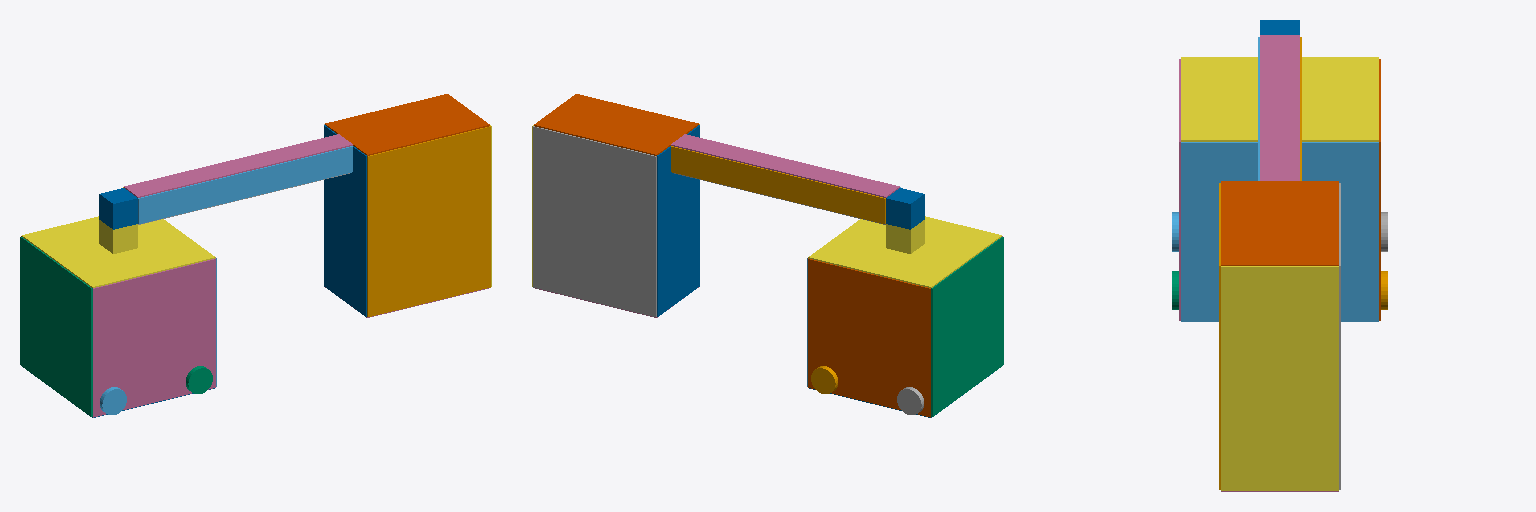
--- Render facts (derived) ---
The picture shows the robot from 3 angles, left to right: view 1: azimuth 30°, elevation 25°; view 2: azimuth 150°, elevation 25°; view 3: azimuth 270°, elevation 25°; orthographic projection.
Model robot with 34 links and 33 joints (2 continuous, 31 fixed), rooted at body, posed all joints at 0.
Links seen in each view (by area): view 1: hand_sensor_0_right, body_sensor_0_right, body_sensor_0_stop, body_sensor_0_top, hand_sensor_0_stop, arm_sensor_0_right, hand_sensor_0_top, arm_sensor_0_top, joint_2, joint_1, back_right_wheel, from_right_wheel; view 2: hand_sensor_0_left, body_sensor_0_left, body_sensor_0_stop, body_sensor_0_top, hand_sensor_0_stop, arm_sensor_0_left, hand_sensor_0_top, arm_sensor_0_top, joint_2, joint_1, back_left_wheel, from_left_wheel; view 3: hand_sensor_0_start, body_sensor_0_start, body_sensor_0_top, hand_sensor_0_top, arm_sensor_0_top, hand_sensor_0_left, hand_sensor_0_right, joint_2.
Link boxes in pixels (x1,y1,x2,y2): hand_sensor_0_right: [367, 126, 490, 316]; body_sensor_0_right: [93, 258, 215, 417]; body_sensor_0_stop: [20, 237, 92, 416]; body_sensor_0_top: [22, 216, 215, 287]; hand_sensor_0_stop: [324, 125, 366, 316]; arm_sensor_0_right: [138, 146, 352, 223]; hand_sensor_0_top: [325, 94, 489, 155]; arm_sensor_0_top: [124, 134, 352, 197]; joint_2: [99, 188, 137, 229]; joint_1: [99, 220, 137, 253]; back_right_wheel: [100, 387, 126, 414]; from_right_wheel: [186, 366, 212, 393]; hand_sensor_0_left: [533, 126, 656, 316]; body_sensor_0_left: [808, 258, 930, 417]; body_sensor_0_stop: [931, 237, 1003, 416]; body_sensor_0_top: [808, 216, 1001, 287]; hand_sensor_0_stop: [657, 125, 699, 316]; arm_sensor_0_left: [671, 146, 885, 223]; hand_sensor_0_top: [534, 94, 698, 155]; arm_sensor_0_top: [671, 134, 899, 197]; joint_2: [886, 188, 924, 229]; joint_1: [886, 220, 924, 253]; back_left_wheel: [897, 387, 923, 414]; from_left_wheel: [811, 366, 837, 393]; hand_sensor_0_start: [1221, 266, 1338, 490]; body_sensor_0_start: [1181, 142, 1378, 321]; body_sensor_0_top: [1181, 57, 1378, 141]; hand_sensor_0_top: [1221, 181, 1338, 265]; arm_sensor_0_top: [1260, 35, 1299, 180]; hand_sensor_0_left: [1339, 183, 1340, 489]; hand_sensor_0_right: [1219, 183, 1220, 489]; joint_2: [1260, 20, 1299, 34].
Size in the robot's own frame: 3.37 by 1.1 by 1.42 metres.
Geometry: primitives only (box / cylinder / sphere), no mesh files.

URDF robot description (robot):
<?xml version="1.0"?>
    <robot name="robot">


    <!-- body -->
    <link name="body">
        <inertial>
            <origin xyz="0 0 0" rpy="0 0 0"/>
            <mass value="100"/>
            <inertia ixx="15" ixy="0" ixz="0" iyy="15" iyz="0" izz="15"/>
        </inertial>
        <visual>
            <origin xyz="0 0 0" rpy="0 0 0"/>
            <geometry>
                <box size="1 1 1"/>
            </geometry>
        </visual>
        <collision>
            <origin xyz="0 0 0" rpy="0 0 0"/>
            <geometry>
                <box size="1 1 1"/>
            </geometry>
        </collision>
    </link>


    <!-- body_sensor_0_start -->
    <link name="body_sensor_0_start">
        <inertial>
            <origin xyz="0 0 0" rpy="0 0 0"/>
            <mass value="0"/>
            <inertia ixx="0" ixy="0" ixz="0" iyy="0" iyz="0" izz="0"/>
        </inertial>
        <visual>
            <origin xyz="0 0 0" rpy="0 0 0"/>
            <geometry>
                <box size="0.02 1 1"/>
            </geometry>
        </visual>
        <collision>
            <origin xyz="0 0 0" rpy="0 0 0"/>
            <geometry>
                <box size="0.02 1 1"/>
            </geometry>
        </collision>
    </link>
    <!-- Joint: body, body_sensor_0_start -->
    <joint name="body_body_sensor_0_start_joint" type="fixed">
        <parent link="body"/>
        <child link="body_sensor_0_start"/>
        <origin xyz="0.5 0 0"
                rpy="0 0 0"/>
        <axis xyz="0 0 1"/>
        
    </joint>


    <!-- body_sensor_0_stop -->
    <link name="body_sensor_0_stop">
        <inertial>
            <origin xyz="0 0 0" rpy="0 0 0"/>
            <mass value="0"/>
            <inertia ixx="0" ixy="0" ixz="0" iyy="0" iyz="0" izz="0"/>
        </inertial>
        <visual>
            <origin xyz="0 0 0" rpy="0 0 0"/>
            <geometry>
                <box size="0.02 1 1"/>
            </geometry>
        </visual>
        <collision>
            <origin xyz="0 0 0" rpy="0 0 0"/>
            <geometry>
                <box size="0.02 1 1"/>
            </geometry>
        </collision>
    </link>
    <!-- Joint: body, body_sensor_0_stop -->
    <joint name="body_body_sensor_0_stop_joint" type="fixed">
        <parent link="body"/>
        <child link="body_sensor_0_stop"/>
        <origin xyz="-0.5 0 0"
                rpy="0 0 0"/>
        <axis xyz="0 0 1"/>
        
    </joint>


    <!-- body_sensor_0_top -->
    <link name="body_sensor_0_top">
        <inertial>
            <origin xyz="0 0 0" rpy="0 0 0"/>
            <mass value="0"/>
            <inertia ixx="0" ixy="0" ixz="0" iyy="0" iyz="0" izz="0"/>
        </inertial>
        <visual>
            <origin xyz="0 0 0" rpy="0 0 0"/>
            <geometry>
                <box size="1.0 1 0.02"/>
            </geometry>
        </visual>
        <collision>
            <origin xyz="0 0 0" rpy="0 0 0"/>
            <geometry>
                <box size="1.0 1 0.02"/>
            </geometry>
        </collision>
    </link>
    <!-- Joint: body, body_sensor_0_top -->
    <joint name="body_body_sensor_0_top_joint" type="fixed">
        <parent link="body"/>
        <child link="body_sensor_0_top"/>
        <origin xyz="0 0 0.5"
                rpy="0 0 0"/>
        <axis xyz="0 0 1"/>
        
    </joint>


    <!-- body_sensor_0_bottom -->
    <link name="body_sensor_0_bottom">
        <inertial>
            <origin xyz="0 0 0" rpy="0 0 0"/>
            <mass value="0"/>
            <inertia ixx="0" ixy="0" ixz="0" iyy="0" iyz="0" izz="0"/>
        </inertial>
        <visual>
            <origin xyz="0 0 0" rpy="0 0 0"/>
            <geometry>
                <box size="1.0 1 0.02"/>
            </geometry>
        </visual>
        <collision>
            <origin xyz="0 0 0" rpy="0 0 0"/>
            <geometry>
                <box size="1.0 1 0.02"/>
            </geometry>
        </collision>
    </link>
    <!-- Joint: body, body_sensor_0_bottom -->
    <joint name="body_body_sensor_0_bottom_joint" type="fixed">
        <parent link="body"/>
        <child link="body_sensor_0_bottom"/>
        <origin xyz="0 0 -0.5"
                rpy="0 0 0"/>
        <axis xyz="0 0 1"/>
        
    </joint>


    <!-- body_sensor_0_left -->
    <link name="body_sensor_0_left">
        <inertial>
            <origin xyz="0 0 0" rpy="0 0 0"/>
            <mass value="0"/>
            <inertia ixx="0" ixy="0" ixz="0" iyy="0" iyz="0" izz="0"/>
        </inertial>
        <visual>
            <origin xyz="0 0 0" rpy="0 0 0"/>
            <geometry>
                <box size="1.0 0.02 1"/>
            </geometry>
        </visual>
        <collision>
            <origin xyz="0 0 0" rpy="0 0 0"/>
            <geometry>
                <box size="1.0 0.02 1"/>
            </geometry>
        </collision>
    </link>
    <!-- Joint: body, body_sensor_0_left -->
    <joint name="body_body_sensor_0_left_joint" type="fixed">
        <parent link="body"/>
        <child link="body_sensor_0_left"/>
        <origin xyz="0 0.5 0"
                rpy="0 0 0"/>
        <axis xyz="0 0 1"/>
        
    </joint>


    <!-- body_sensor_0_right -->
    <link name="body_sensor_0_right">
        <inertial>
            <origin xyz="0 0 0" rpy="0 0 0"/>
            <mass value="0"/>
            <inertia ixx="0" ixy="0" ixz="0" iyy="0" iyz="0" izz="0"/>
        </inertial>
        <visual>
            <origin xyz="0 0 0" rpy="0 0 0"/>
            <geometry>
                <box size="1.0 0.02 1"/>
            </geometry>
        </visual>
        <collision>
            <origin xyz="0 0 0" rpy="0 0 0"/>
            <geometry>
                <box size="1.0 0.02 1"/>
            </geometry>
        </collision>
    </link>
    <!-- Joint: body, body_sensor_0_right -->
    <joint name="body_body_sensor_0_right_joint" type="fixed">
        <parent link="body"/>
        <child link="body_sensor_0_right"/>
        <origin xyz="0 -0.5 0"
                rpy="0 0 0"/>
        <axis xyz="0 0 1"/>
        
    </joint>


    <!-- back_left_wheel -->
    <link name="back_left_wheel">
        <inertial>
            <origin xyz="0 0 0" rpy="0 0 0"/>
            <mass value="0.1"/>
            <inertia ixx="0.0005" ixy="0" ixz="0" iyy="0.0005" iyz="0" izz="0.0005"/>
        </inertial>
        <visual>
            <origin xyz="0 0 0" rpy="0 0 0"/>
            <geometry>
                <cylinder radius="0.1" length="0.1"/>
            </geometry>
        </visual>
        <collision>
            <origin xyz="0 0 0" rpy="0 0 0"/>
            <geometry>
                <cylinder radius="0.1" length="0.1"/>
            </geometry>
        </collision>
    </link>
    <!-- Joint: body, back_left_wheel -->
    <joint name="body_back_left_wheel_joint" type="fixed">
        <parent link="body"/>
        <child link="back_left_wheel"/>
        <origin xyz="-0.35 0.5 -0.4"
                rpy="1.5708 0 0"/>
        <axis xyz="1 0 0"/>
        
    </joint>


    <!-- from_left_wheel -->
    <link name="from_left_wheel">
        <inertial>
            <origin xyz="0 0 0" rpy="0 0 0"/>
            <mass value="0.1"/>
            <inertia ixx="0.0005" ixy="0" ixz="0" iyy="0.0005" iyz="0" izz="0.0005"/>
        </inertial>
        <visual>
            <origin xyz="0 0 0" rpy="0 0 0"/>
            <geometry>
                <cylinder radius="0.1" length="0.1"/>
            </geometry>
        </visual>
        <collision>
            <origin xyz="0 0 0" rpy="0 0 0"/>
            <geometry>
                <cylinder radius="0.1" length="0.1"/>
            </geometry>
        </collision>
    </link>
    <!-- Joint: body, from_left_wheel -->
    <joint name="body_from_left_wheel_joint" type="fixed">
        <parent link="body"/>
        <child link="from_left_wheel"/>
        <origin xyz="0.35 0.5 -0.4"
                rpy="1.5708 0 0"/>
        <axis xyz="1 0 0"/>
        
    </joint>


    <!-- back_right_wheel -->
    <link name="back_right_wheel">
        <inertial>
            <origin xyz="0 0 0" rpy="0 0 0"/>
            <mass value="0.1"/>
            <inertia ixx="0.0005" ixy="0" ixz="0" iyy="0.0005" iyz="0" izz="0.0005"/>
        </inertial>
        <visual>
            <origin xyz="0 0 0" rpy="0 0 0"/>
            <geometry>
                <cylinder radius="0.1" length="0.1"/>
            </geometry>
        </visual>
        <collision>
            <origin xyz="0 0 0" rpy="0 0 0"/>
            <geometry>
                <cylinder radius="0.1" length="0.1"/>
            </geometry>
        </collision>
    </link>
    <!-- Joint: body, back_right_wheel -->
    <joint name="body_back_right_wheel_joint" type="fixed">
        <parent link="body"/>
        <child link="back_right_wheel"/>
        <origin xyz="-0.35 -0.5 -0.4"
                rpy="1.5708 0 0"/>
        <axis xyz="1 0 0"/>
        
    </joint>


    <!-- from_right_wheel -->
    <link name="from_right_wheel">
        <inertial>
            <origin xyz="0 0 0" rpy="0 0 0"/>
            <mass value="0.1"/>
            <inertia ixx="0.0005" ixy="0" ixz="0" iyy="0.0005" iyz="0" izz="0.0005"/>
        </inertial>
        <visual>
            <origin xyz="0 0 0" rpy="0 0 0"/>
            <geometry>
                <cylinder radius="0.1" length="0.1"/>
            </geometry>
        </visual>
        <collision>
            <origin xyz="0 0 0" rpy="0 0 0"/>
            <geometry>
                <cylinder radius="0.1" length="0.1"/>
            </geometry>
        </collision>
    </link>
    <!-- Joint: body, from_right_wheel -->
    <joint name="body_from_right_wheel_joint" type="fixed">
        <parent link="body"/>
        <child link="from_right_wheel"/>
        <origin xyz="0.35 -0.5 -0.4"
                rpy="1.5708 0 0"/>
        <axis xyz="1 0 0"/>
        
    </joint>


    <!-- joint_1 -->
    <link name="joint_1">
        <inertial>
            <origin xyz="0 0 0" rpy="0 0 0"/>
            <mass value="2"/>
            <inertia ixx="0.01" ixy="0" ixz="0" iyy="0.01" iyz="0" izz="0.01"/>
        </inertial>
        <visual>
            <origin xyz="0 0 0" rpy="0 0 0"/>
            <geometry>
                <box size="0.2 0.2 0.2"/>
            </geometry>
        </visual>
        <collision>
            <origin xyz="0 0 0" rpy="0 0 0"/>
            <geometry>
                <box size="0.2 0.2 0.2"/>
            </geometry>
        </collision>
    </link>
    <!-- Joint: body, joint_1 -->
    <joint name="body_joint_1_joint" type="continuous">
        <parent link="body"/>
        <child link="joint_1"/>
        <origin xyz="0 0 0.6"
                rpy="0 0 0"/>
        <axis xyz="0 0 1"/>
        <limit lower="-0.7853981633974483" upper="0.7853981633974483" effort="999" velocity="999"/>
    </joint>


    <!-- joint_2 -->
    <link name="joint_2">
        <inertial>
            <origin xyz="0 0 0" rpy="0 0 0"/>
            <mass value="2"/>
            <inertia ixx="0.01" ixy="0" ixz="0" iyy="0.01" iyz="0" izz="0.01"/>
        </inertial>
        <visual>
            <origin xyz="0 0 0" rpy="0 0 0"/>
            <geometry>
                <box size="0.2 0.2 0.2"/>
            </geometry>
        </visual>
        <collision>
            <origin xyz="0 0 0" rpy="0 0 0"/>
            <geometry>
                <box size="0.2 0.2 0.2"/>
            </geometry>
        </collision>
    </link>
    <!-- Joint: joint_1, joint_2 -->
    <joint name="joint_1_joint_2_joint" type="continuous">
        <parent link="joint_1"/>
        <child link="joint_2"/>
        <origin xyz="0 0 0.2"
                rpy="0 0 0"/>
        <axis xyz="0 1 0"/>
        <limit lower="-1.5707963267948966" upper="0" effort="999" velocity="999"/>
    </joint>


    <!-- arm -->
    <link name="arm">
        <inertial>
            <origin xyz="0 0 0" rpy="0 0 0"/>
            <mass value="2"/>
            <inertia ixx="0.01" ixy="0" ixz="0" iyy="1.25" iyz="0" izz="1.25"/>
        </inertial>
        <visual>
            <origin xyz="0 0 0" rpy="0 0 0"/>
            <geometry>
                <box size="1.75 0.2 0.2"/>
            </geometry>
        </visual>
        <collision>
            <origin xyz="0 0 0" rpy="0 0 0"/>
            <geometry>
                <box size="1.75 0.2 0.2"/>
            </geometry>
        </collision>
    </link>


    <!-- arm_sensor_0_top -->
    <link name="arm_sensor_0_top">
        <inertial>
            <origin xyz="0 0 0" rpy="0 0 0"/>
            <mass value="0"/>
            <inertia ixx="0" ixy="0" ixz="0" iyy="0" iyz="0" izz="0"/>
        </inertial>
        <visual>
            <origin xyz="0 0 0" rpy="0 0 0"/>
            <geometry>
                <box size="1.75 0.2 0.02"/>
            </geometry>
        </visual>
        <collision>
            <origin xyz="0 0 0" rpy="0 0 0"/>
            <geometry>
                <box size="1.75 0.2 0.02"/>
            </geometry>
        </collision>
    </link>
    <!-- Joint: arm, arm_sensor_0_top -->
    <joint name="arm_arm_sensor_0_top_joint" type="fixed">
        <parent link="arm"/>
        <child link="arm_sensor_0_top"/>
        <origin xyz="0 0 0.1"
                rpy="0 0 0"/>
        <axis xyz="0 1 0"/>
        
    </joint>


    <!-- arm_sensor_0_bottom -->
    <link name="arm_sensor_0_bottom">
        <inertial>
            <origin xyz="0 0 0" rpy="0 0 0"/>
            <mass value="0"/>
            <inertia ixx="0" ixy="0" ixz="0" iyy="0" iyz="0" izz="0"/>
        </inertial>
        <visual>
            <origin xyz="0 0 0" rpy="0 0 0"/>
            <geometry>
                <box size="1.75 0.2 0.02"/>
            </geometry>
        </visual>
        <collision>
            <origin xyz="0 0 0" rpy="0 0 0"/>
            <geometry>
                <box size="1.75 0.2 0.02"/>
            </geometry>
        </collision>
    </link>
    <!-- Joint: arm, arm_sensor_0_bottom -->
    <joint name="arm_arm_sensor_0_bottom_joint" type="fixed">
        <parent link="arm"/>
        <child link="arm_sensor_0_bottom"/>
        <origin xyz="0 0 -0.1"
                rpy="0 0 0"/>
        <axis xyz="0 1 0"/>
        
    </joint>


    <!-- arm_sensor_0_left -->
    <link name="arm_sensor_0_left">
        <inertial>
            <origin xyz="0 0 0" rpy="0 0 0"/>
            <mass value="0"/>
            <inertia ixx="0" ixy="0" ixz="0" iyy="0" iyz="0" izz="0"/>
        </inertial>
        <visual>
            <origin xyz="0 0 0" rpy="0 0 0"/>
            <geometry>
                <box size="1.75 0.02 0.2"/>
            </geometry>
        </visual>
        <collision>
            <origin xyz="0 0 0" rpy="0 0 0"/>
            <geometry>
                <box size="1.75 0.02 0.2"/>
            </geometry>
        </collision>
    </link>
    <!-- Joint: arm, arm_sensor_0_left -->
    <joint name="arm_arm_sensor_0_left_joint" type="fixed">
        <parent link="arm"/>
        <child link="arm_sensor_0_left"/>
        <origin xyz="0 0.1 0"
                rpy="0 0 0"/>
        <axis xyz="0 1 0"/>
        
    </joint>


    <!-- arm_sensor_0_right -->
    <link name="arm_sensor_0_right">
        <inertial>
            <origin xyz="0 0 0" rpy="0 0 0"/>
            <mass value="0"/>
            <inertia ixx="0" ixy="0" ixz="0" iyy="0" iyz="0" izz="0"/>
        </inertial>
        <visual>
            <origin xyz="0 0 0" rpy="0 0 0"/>
            <geometry>
                <box size="1.75 0.02 0.2"/>
            </geometry>
        </visual>
        <collision>
            <origin xyz="0 0 0" rpy="0 0 0"/>
            <geometry>
                <box size="1.75 0.02 0.2"/>
            </geometry>
        </collision>
    </link>
    <!-- Joint: arm, arm_sensor_0_right -->
    <joint name="arm_arm_sensor_0_right_joint" type="fixed">
        <parent link="arm"/>
        <child link="arm_sensor_0_right"/>
        <origin xyz="0 -0.1 0"
                rpy="0 0 0"/>
        <axis xyz="0 1 0"/>
        
    </joint>
    <!-- Joint: joint_2, arm -->
    <joint name="joint_2_arm_joint" type="fixed">
        <parent link="joint_2"/>
        <child link="arm"/>
        <origin xyz="0.975 0 0"
                rpy="0 0 0"/>
        <axis xyz="0 1 0"/>
        
    </joint>


    <!-- hand -->
    <link name="hand">
        <inertial>
            <origin xyz="0 0 0" rpy="0 0 0"/>
            <mass value="2"/>
            <inertia ixx="0.05" ixy="0.05" ixz="0.05" iyy="0.05" iyz="0.05" izz="0.05"/>
        </inertial>
        <visual>
            <origin xyz="0 0 0" rpy="0 0 0"/>
            <geometry>
                <box size="1 0.6000000000000001 1.25"/>
            </geometry>
        </visual>
        <collision>
            <origin xyz="0 0 0" rpy="0 0 0"/>
            <geometry>
                <box size="1 0.6000000000000001 1.25"/>
            </geometry>
        </collision>
    </link>


    <!-- hand_sensor_0_start -->
    <link name="hand_sensor_0_start">
        <inertial>
            <origin xyz="0 0 0" rpy="0 0 0"/>
            <mass value="0"/>
            <inertia ixx="0" ixy="0" ixz="0" iyy="0" iyz="0" izz="0"/>
        </inertial>
        <visual>
            <origin xyz="0 0 0" rpy="0 0 0"/>
            <geometry>
                <box size="0.02 0.6000000000000001 1.25"/>
            </geometry>
        </visual>
        <collision>
            <origin xyz="0 0 0" rpy="0 0 0"/>
            <geometry>
                <box size="0.02 0.6000000000000001 1.25"/>
            </geometry>
        </collision>
    </link>
    <!-- Joint: hand, hand_sensor_0_start -->
    <joint name="hand_hand_sensor_0_start_joint" type="fixed">
        <parent link="hand"/>
        <child link="hand_sensor_0_start"/>
        <origin xyz="0.5 0 0"
                rpy="0 0 0"/>
        <axis xyz="0 1 0"/>
        
    </joint>


    <!-- hand_sensor_0_stop -->
    <link name="hand_sensor_0_stop">
        <inertial>
            <origin xyz="0 0 0" rpy="0 0 0"/>
            <mass value="0"/>
            <inertia ixx="0" ixy="0" ixz="0" iyy="0" iyz="0" izz="0"/>
        </inertial>
        <visual>
            <origin xyz="0 0 0" rpy="0 0 0"/>
            <geometry>
                <box size="0.02 0.6000000000000001 1.25"/>
            </geometry>
        </visual>
        <collision>
            <origin xyz="0 0 0" rpy="0 0 0"/>
            <geometry>
                <box size="0.02 0.6000000000000001 1.25"/>
            </geometry>
        </collision>
    </link>
    <!-- Joint: hand, hand_sensor_0_stop -->
    <joint name="hand_hand_sensor_0_stop_joint" type="fixed">
        <parent link="hand"/>
        <child link="hand_sensor_0_stop"/>
        <origin xyz="-0.5 0 0"
                rpy="0 0 0"/>
        <axis xyz="0 1 0"/>
        
    </joint>


    <!-- hand_sensor_0_top -->
    <link name="hand_sensor_0_top">
        <inertial>
            <origin xyz="0 0 0" rpy="0 0 0"/>
            <mass value="0"/>
            <inertia ixx="0" ixy="0" ixz="0" iyy="0" iyz="0" izz="0"/>
        </inertial>
        <visual>
            <origin xyz="0 0 0" rpy="0 0 0"/>
            <geometry>
                <box size="1.0 0.6000000000000001 0.02"/>
            </geometry>
        </visual>
        <collision>
            <origin xyz="0 0 0" rpy="0 0 0"/>
            <geometry>
                <box size="1.0 0.6000000000000001 0.02"/>
            </geometry>
        </collision>
    </link>
    <!-- Joint: hand, hand_sensor_0_top -->
    <joint name="hand_hand_sensor_0_top_joint" type="fixed">
        <parent link="hand"/>
        <child link="hand_sensor_0_top"/>
        <origin xyz="0 0 0.625"
                rpy="0 0 0"/>
        <axis xyz="0 1 0"/>
        
    </joint>


    <!-- hand_sensor_0_bottom -->
    <link name="hand_sensor_0_bottom">
        <inertial>
            <origin xyz="0 0 0" rpy="0 0 0"/>
            <mass value="0"/>
            <inertia ixx="0" ixy="0" ixz="0" iyy="0" iyz="0" izz="0"/>
        </inertial>
        <visual>
            <origin xyz="0 0 0" rpy="0 0 0"/>
            <geometry>
                <box size="1.0 0.6000000000000001 0.02"/>
            </geometry>
        </visual>
        <collision>
            <origin xyz="0 0 0" rpy="0 0 0"/>
            <geometry>
                <box size="1.0 0.6000000000000001 0.02"/>
            </geometry>
        </collision>
    </link>
    <!-- Joint: hand, hand_sensor_0_bottom -->
    <joint name="hand_hand_sensor_0_bottom_joint" type="fixed">
        <parent link="hand"/>
        <child link="hand_sensor_0_bottom"/>
        <origin xyz="0 0 -0.625"
                rpy="0 0 0"/>
        <axis xyz="0 1 0"/>
        
    </joint>


    <!-- hand_sensor_0_left -->
    <link name="hand_sensor_0_left">
        <inertial>
            <origin xyz="0 0 0" rpy="0 0 0"/>
            <mass value="0"/>
            <inertia ixx="0" ixy="0" ixz="0" iyy="0" iyz="0" izz="0"/>
        </inertial>
        <visual>
            <origin xyz="0 0 0" rpy="0 0 0"/>
            <geometry>
                <box size="1.0 0.02 1.25"/>
            </geometry>
        </visual>
        <collision>
            <origin xyz="0 0 0" rpy="0 0 0"/>
            <geometry>
                <box size="1.0 0.02 1.25"/>
            </geometry>
        </collision>
    </link>
    <!-- Joint: hand, hand_sensor_0_left -->
    <joint name="hand_hand_sensor_0_left_joint" type="fixed">
        <parent link="hand"/>
        <child link="hand_sensor_0_left"/>
        <origin xyz="0 0.30000000000000004 0"
                rpy="0 0 0"/>
        <axis xyz="0 1 0"/>
        
    </joint>


    <!-- hand_sensor_0_right -->
    <link name="hand_sensor_0_right">
        <inertial>
            <origin xyz="0 0 0" rpy="0 0 0"/>
            <mass value="0"/>
            <inertia ixx="0" ixy="0" ixz="0" iyy="0" iyz="0" izz="0"/>
        </inertial>
        <visual>
            <origin xyz="0 0 0" rpy="0 0 0"/>
            <geometry>
                <box size="1.0 0.02 1.25"/>
            </geometry>
        </visual>
        <collision>
            <origin xyz="0 0 0" rpy="0 0 0"/>
            <geometry>
                <box size="1.0 0.02 1.25"/>
            </geometry>
        </collision>
    </link>
    <!-- Joint: hand, hand_sensor_0_right -->
    <joint name="hand_hand_sensor_0_right_joint" type="fixed">
        <parent link="hand"/>
        <child link="hand_sensor_0_right"/>
        <origin xyz="0 -0.30000000000000004 0"
                rpy="0 0 0"/>
        <axis xyz="0 1 0"/>
        
    </joint>
    <!-- Joint: arm, hand -->
    <joint name="arm_hand_joint" type="fixed">
        <parent link="arm"/>
        <child link="hand"/>
        <origin xyz="1.375 0 -0.525"
                rpy="0 0 0"/>
        <axis xyz="0 1 0"/>
        
    </joint>


    <!-- body_face_front_0 -->
    <link name="body_face_front_0">
        <inertial>
            <origin xyz="0 0 0" rpy="0 0 0"/>
            <mass value="0"/>
            <inertia ixx="0.05" ixy="0.05" ixz="0.05" iyy="0.05" iyz="0.05" izz="0.05"/>
        </inertial>
        <visual>
            <origin xyz="0 0 0" rpy="0 0 0"/>
            <geometry>
                <box size="0.002 0.1111111111111111 0.1111111111111111"/>
            </geometry>
        </visual>
        <collision>
            <origin xyz="0 0 0" rpy="0 0 0"/>
            <geometry>
                <box size="0.002 0.1111111111111111 0.1111111111111111"/>
            </geometry>
        </collision>
    </link>
    <!-- Joint: body, body_face_front_0 -->
    <joint name="body_body_face_front_0_joint" type="fixed">
        <parent link="body"/>
        <child link="body_face_front_0"/>
        <origin xyz="0.501 -0.33333333333333337 0.11111111111111116"
                rpy="0 0 0"/>
        <axis xyz="0 0 1"/>
        
    </joint>


    <!-- body_face_front_1 -->
    <link name="body_face_front_1">
        <inertial>
            <origin xyz="0 0 0" rpy="0 0 0"/>
            <mass value="0"/>
            <inertia ixx="0.05" ixy="0.05" ixz="0.05" iyy="0.05" iyz="0.05" izz="0.05"/>
        </inertial>
        <visual>
            <origin xyz="0 0 0" rpy="0 0 0"/>
            <geometry>
                <box size="0.002 0.1111111111111111 0.1111111111111111"/>
            </geometry>
        </visual>
        <collision>
            <origin xyz="0 0 0" rpy="0 0 0"/>
            <geometry>
                <box size="0.002 0.1111111111111111 0.1111111111111111"/>
            </geometry>
        </collision>
    </link>
    <!-- Joint: body, body_face_front_1 -->
    <joint name="body_body_face_front_1_joint" type="fixed">
        <parent link="body"/>
        <child link="body_face_front_1"/>
        <origin xyz="0.501 -0.2222222222222222 0.2222222222222222"
                rpy="0 0 0"/>
        <axis xyz="0 0 1"/>
        
    </joint>


    <!-- body_face_front_2 -->
    <link name="body_face_front_2">
        <inertial>
            <origin xyz="0 0 0" rpy="0 0 0"/>
            <mass value="0"/>
            <inertia ixx="0.05" ixy="0.05" ixz="0.05" iyy="0.05" iyz="0.05" izz="0.05"/>
        </inertial>
        <visual>
            <origin xyz="0 0 0" rpy="0 0 0"/>
            <geometry>
                <box size="0.002 0.1111111111111111 0.1111111111111111"/>
            </geometry>
        </visual>
        <collision>
            <origin xyz="0 0 0" rpy="0 0 0"/>
            <geometry>
                <box size="0.002 0.1111111111111111 0.1111111111111111"/>
            </geometry>
        </collision>
    </link>
    <!-- Joint: body, body_face_front_2 -->
    <joint name="body_body_face_front_2_joint" type="fixed">
        <parent link="body"/>
        <child link="body_face_front_2"/>
        <origin xyz="0.501 -0.1111111111111111 0.11111111111111116"
                rpy="0 0 0"/>
        <axis xyz="0 0 1"/>
        
    </joint>


    <!-- body_face_front_3 -->
    <link name="body_face_front_3">
        <inertial>
            <origin xyz="0 0 0" rpy="0 0 0"/>
            <mass value="0"/>
            <inertia ixx="0.05" ixy="0.05" ixz="0.05" iyy="0.05" iyz="0.05" izz="0.05"/>
        </inertial>
        <visual>
            <origin xyz="0 0 0" rpy="0 0 0"/>
            <geometry>
                <box size="0.002 0.1111111111111111 0.1111111111111111"/>
            </geometry>
        </visual>
        <collision>
            <origin xyz="0 0 0" rpy="0 0 0"/>
            <geometry>
                <box size="0.002 0.1111111111111111 0.1111111111111111"/>
            </geometry>
        </collision>
    </link>
    <!-- Joint: body, body_face_front_3 -->
    <joint name="body_body_face_front_3_joint" type="fixed">
        <parent link="body"/>
        <child link="body_face_front_3"/>
        <origin xyz="0.501 -0.1111111111111111 -0.2222222222222222"
                rpy="0 0 0"/>
        <axis xyz="0 0 1"/>
        
    </joint>


    <!-- body_face_front_4 -->
    <link name="body_face_front_4">
        <inertial>
            <origin xyz="0 0 0" rpy="0 0 0"/>
            <mass value="0"/>
            <inertia ixx="0.05" ixy="0.05" ixz="0.05" iyy="0.05" iyz="0.05" izz="0.05"/>
        </inertial>
        <visual>
            <origin xyz="0 0 0" rpy="0 0 0"/>
            <geometry>
                <box size="0.002 0.1111111111111111 0.1111111111111111"/>
            </geometry>
        </visual>
        <collision>
            <origin xyz="0 0 0" rpy="0 0 0"/>
            <geometry>
                <box size="0.002 0.1111111111111111 0.1111111111111111"/>
            </geometry>
        </collision>
    </link>
    <!-- Joint: body, body_face_front_4 -->
    <joint name="body_body_face_front_4_joint" type="fixed">
        <parent link="body"/>
        <child link="body_face_front_4"/>
        <origin xyz="0.501 0.0 -0.2222222222222222"
                rpy="0 0 0"/>
        <axis xyz="0 0 1"/>
        
    </joint>


    <!-- body_face_front_5 -->
    <link name="body_face_front_5">
        <inertial>
            <origin xyz="0 0 0" rpy="0 0 0"/>
            <mass value="0"/>
            <inertia ixx="0.05" ixy="0.05" ixz="0.05" iyy="0.05" iyz="0.05" izz="0.05"/>
        </inertial>
        <visual>
            <origin xyz="0 0 0" rpy="0 0 0"/>
            <geometry>
                <box size="0.002 0.1111111111111111 0.1111111111111111"/>
            </geometry>
        </visual>
        <collision>
            <origin xyz="0 0 0" rpy="0 0 0"/>
            <geometry>
                <box size="0.002 0.1111111111111111 0.1111111111111111"/>
            </geometry>
        </collision>
    </link>
    <!-- Joint: body, body_face_front_5 -->
    <joint name="body_body_face_front_5_joint" type="fixed">
        <parent link="body"/>
        <child link="body_face_front_5"/>
        <origin xyz="0.501 0.11111111111111116 0.11111111111111116"
                rpy="0 0 0"/>
        <axis xyz="0 0 1"/>
        
    </joint>


    <!-- body_face_front_6 -->
    <link name="body_face_front_6">
        <inertial>
            <origin xyz="0 0 0" rpy="0 0 0"/>
            <mass value="0"/>
            <inertia ixx="0.05" ixy="0.05" ixz="0.05" iyy="0.05" iyz="0.05" izz="0.05"/>
        </inertial>
        <visual>
            <origin xyz="0 0 0" rpy="0 0 0"/>
            <geometry>
                <box size="0.002 0.1111111111111111 0.1111111111111111"/>
            </geometry>
        </visual>
        <collision>
            <origin xyz="0 0 0" rpy="0 0 0"/>
            <geometry>
                <box size="0.002 0.1111111111111111 0.1111111111111111"/>
            </geometry>
        </collision>
    </link>
    <!-- Joint: body, body_face_front_6 -->
    <joint name="body_body_face_front_6_joint" type="fixed">
        <parent link="body"/>
        <child link="body_face_front_6"/>
        <origin xyz="0.501 0.11111111111111116 -0.2222222222222222"
                rpy="0 0 0"/>
        <axis xyz="0 0 1"/>
        
    </joint>


    <!-- body_face_front_7 -->
    <link name="body_face_front_7">
        <inertial>
            <origin xyz="0 0 0" rpy="0 0 0"/>
            <mass value="0"/>
            <inertia ixx="0.05" ixy="0.05" ixz="0.05" iyy="0.05" iyz="0.05" izz="0.05"/>
        </inertial>
        <visual>
            <origin xyz="0 0 0" rpy="0 0 0"/>
            <geometry>
                <box size="0.002 0.1111111111111111 0.1111111111111111"/>
            </geometry>
        </visual>
        <collision>
            <origin xyz="0 0 0" rpy="0 0 0"/>
            <geometry>
                <box size="0.002 0.1111111111111111 0.1111111111111111"/>
            </geometry>
        </collision>
    </link>
    <!-- Joint: body, body_face_front_7 -->
    <joint name="body_body_face_front_7_joint" type="fixed">
        <parent link="body"/>
        <child link="body_face_front_7"/>
        <origin xyz="0.501 0.2222222222222222 0.2222222222222222"
                rpy="0 0 0"/>
        <axis xyz="0 0 1"/>
        
    </joint>


    <!-- body_face_front_8 -->
    <link name="body_face_front_8">
        <inertial>
            <origin xyz="0 0 0" rpy="0 0 0"/>
            <mass value="0"/>
            <inertia ixx="0.05" ixy="0.05" ixz="0.05" iyy="0.05" iyz="0.05" izz="0.05"/>
        </inertial>
        <visual>
            <origin xyz="0 0 0" rpy="0 0 0"/>
            <geometry>
                <box size="0.002 0.1111111111111111 0.1111111111111111"/>
            </geometry>
        </visual>
        <collision>
            <origin xyz="0 0 0" rpy="0 0 0"/>
            <geometry>
                <box size="0.002 0.1111111111111111 0.1111111111111111"/>
            </geometry>
        </collision>
    </link>
    <!-- Joint: body, body_face_front_8 -->
    <joint name="body_body_face_front_8_joint" type="fixed">
        <parent link="body"/>
        <child link="body_face_front_8"/>
        <origin xyz="0.501 0.33333333333333337 0.11111111111111116"
                rpy="0 0 0"/>
        <axis xyz="0 0 1"/>
        
    </joint>


</robot>
